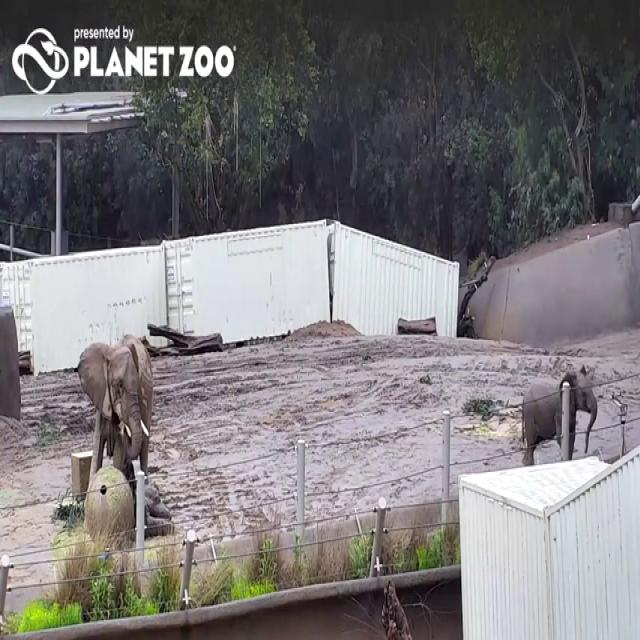Elephant: (76, 332, 153, 487), (521, 362, 597, 467)
